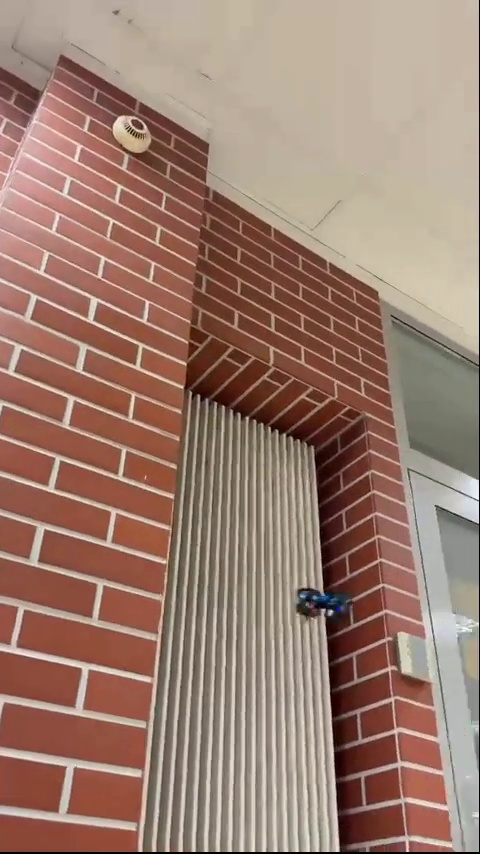drone: (294, 583, 354, 622)
